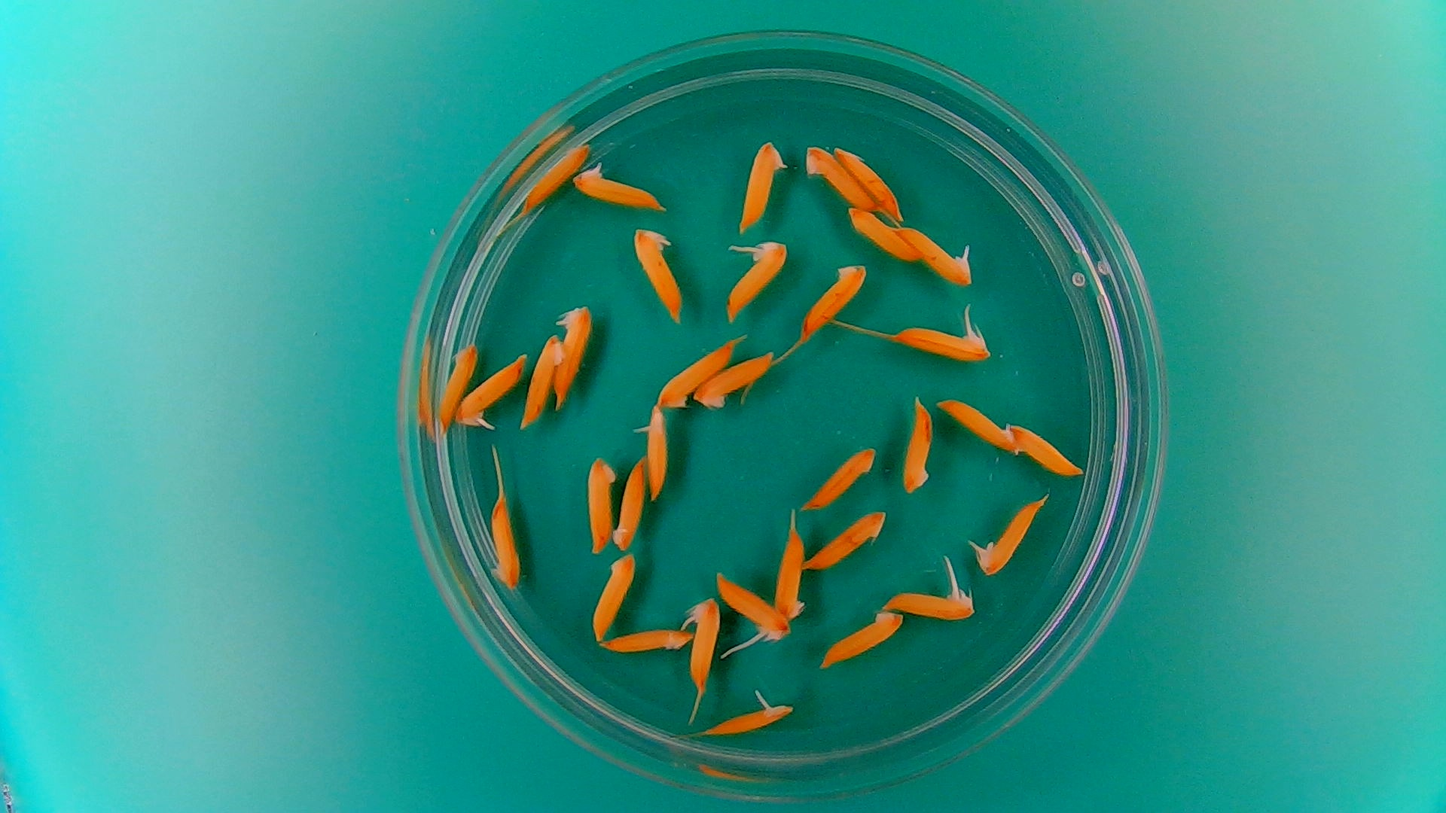no: (653, 334, 739, 410), (797, 258, 871, 344), (801, 139, 883, 215), (816, 606, 906, 672), (802, 506, 889, 573), (518, 139, 593, 215), (932, 391, 1020, 455), (691, 349, 779, 413), (834, 145, 905, 224), (799, 441, 879, 510), (735, 136, 789, 234), (1007, 419, 1087, 481), (519, 329, 566, 431), (845, 206, 923, 266), (587, 550, 638, 641), (581, 451, 620, 556), (609, 454, 648, 555), (486, 489, 523, 595), (436, 344, 478, 436), (900, 394, 935, 497), (773, 525, 809, 623), (599, 622, 694, 656)
yes: (974, 492, 1049, 575), (714, 570, 788, 644), (454, 351, 529, 424), (725, 236, 788, 321), (633, 224, 687, 320), (898, 221, 975, 287), (551, 306, 593, 409), (569, 168, 659, 214), (891, 324, 990, 364), (685, 591, 722, 697), (700, 699, 790, 737), (885, 587, 977, 621), (644, 410, 669, 497)
